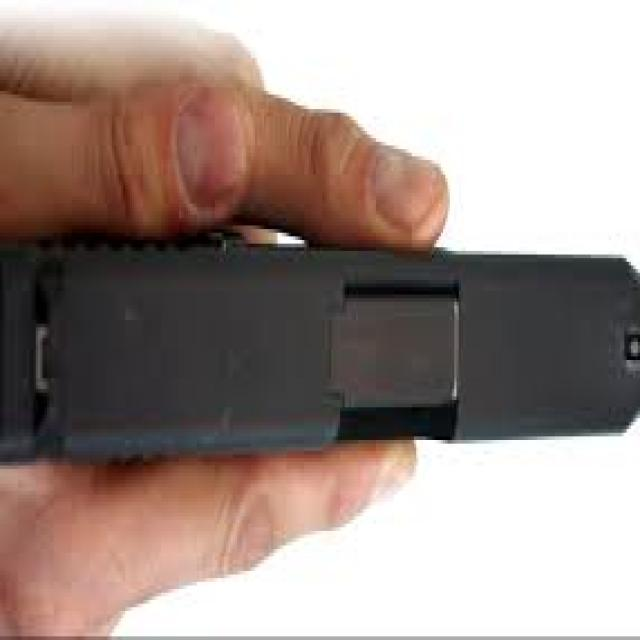gun: (0, 222, 633, 451)
